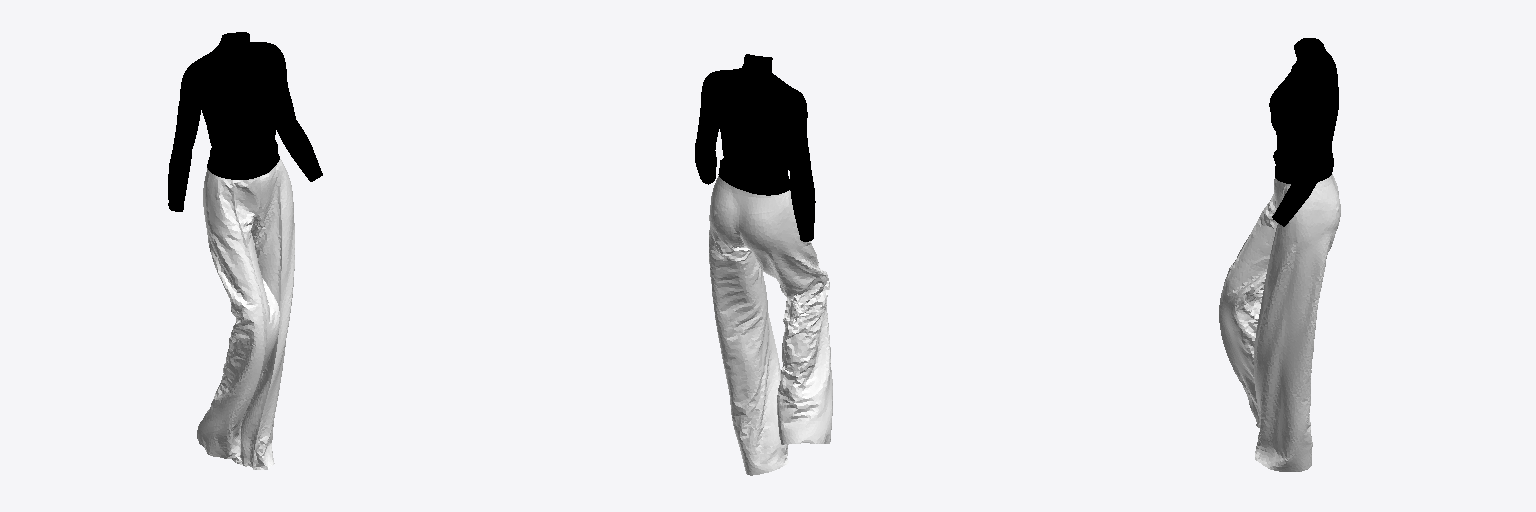
The model's file is DA_HighNeck+WidePants_0000043.obj.
3 renders of one model, left to right at view 1: azimuth 30°, elevation 25°; view 2: azimuth 150°, elevation 25°; view 3: azimuth 270°, elevation 25°, orthographic.
Size of the model in its own units: 0.5376 by 1.63 by 0.4277.